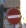No entry: (6, 5, 21, 23)
